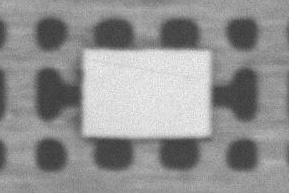DIE_CRACK: (130, 39, 289, 53)
